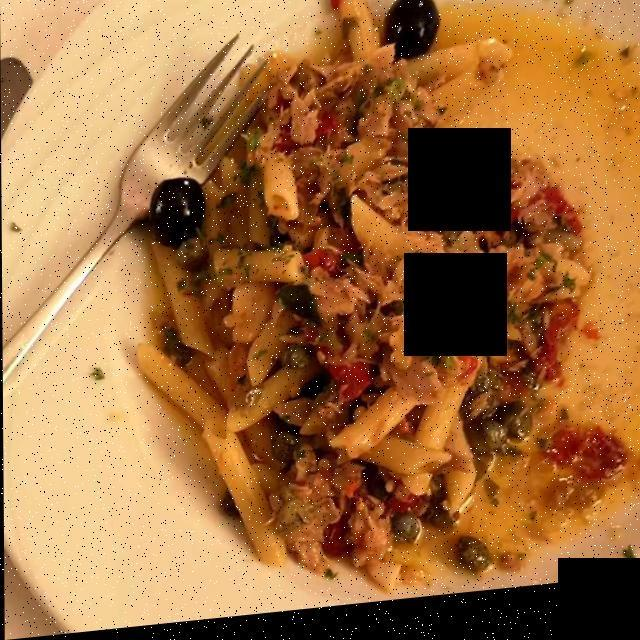black-olives: (114, 0, 449, 259)
pasta: (115, 0, 588, 583)
tuna: (242, 71, 561, 609)
